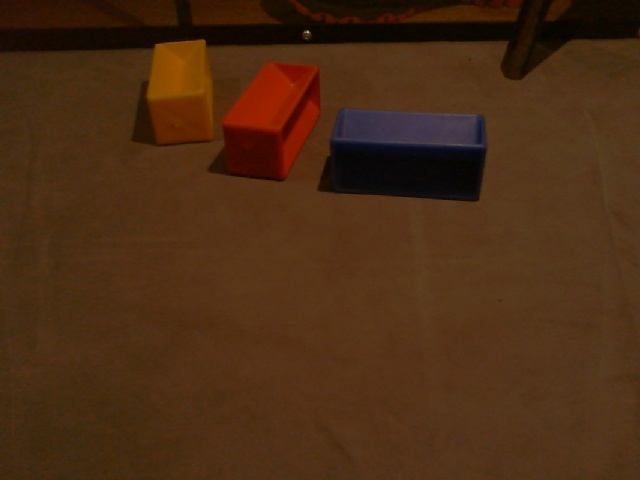BlueSample: (328, 105, 488, 203)
RedSample: (221, 60, 325, 183)
YellowSample: (141, 35, 218, 148)
